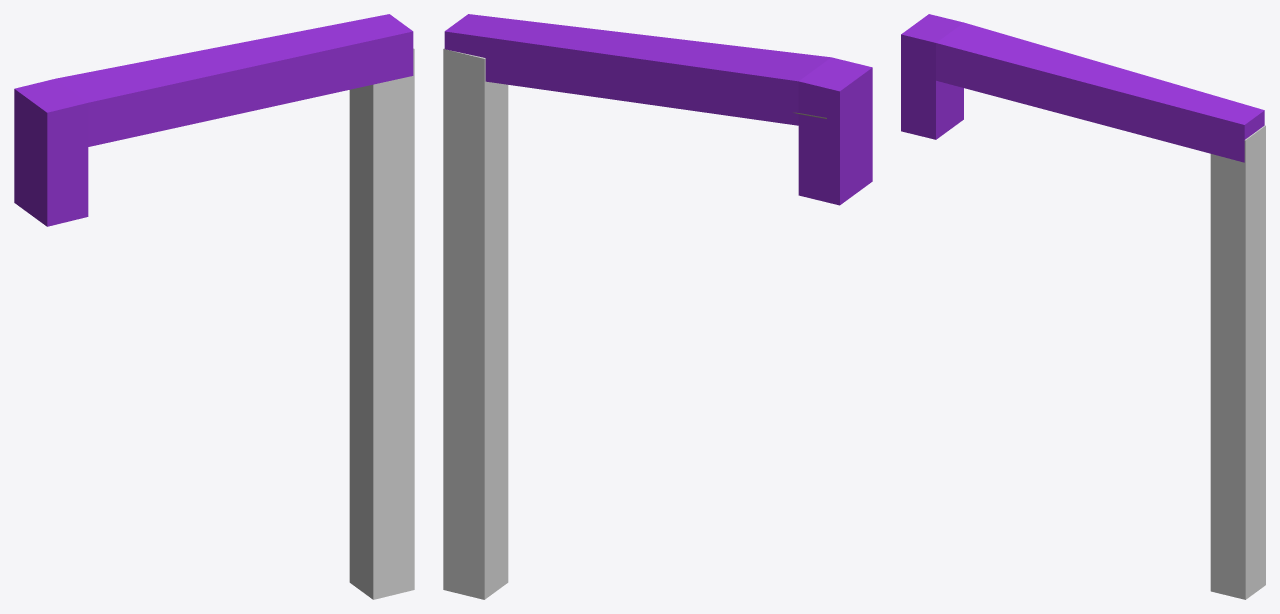
File: eca_traffic_high_ns_right.dae
The picture shows the model from 3 angles, left to right: view 1: azimuth 30°, elevation 25°; view 2: azimuth 150°, elevation 25°; view 3: azimuth 330°, elevation 25°; orthographic projection. The views are drawn at different scales.
Parts seen in each view (by area): view 1: Colmesh_eca_traffic_high_ns_right-1; view 2: Colmesh_eca_traffic_high_ns_right-1; view 3: Colmesh_eca_traffic_high_ns_right-1.
Part boxes in pixels (<box>): Colmesh_eca_traffic_high_ns_right-1: <box>14,14,414,599</box>; Colmesh_eca_traffic_high_ns_right-1: <box>443,14,872,599</box>; Colmesh_eca_traffic_high_ns_right-1: <box>901,14,1265,599</box>.
Bounding box in the file's own units: 5.06 × 0.9733 × 7.32.
